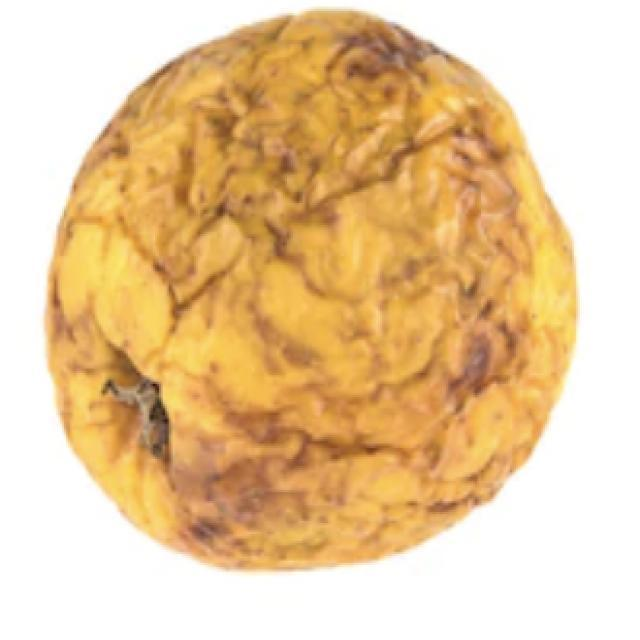Rotten: (76, 37, 566, 555)
